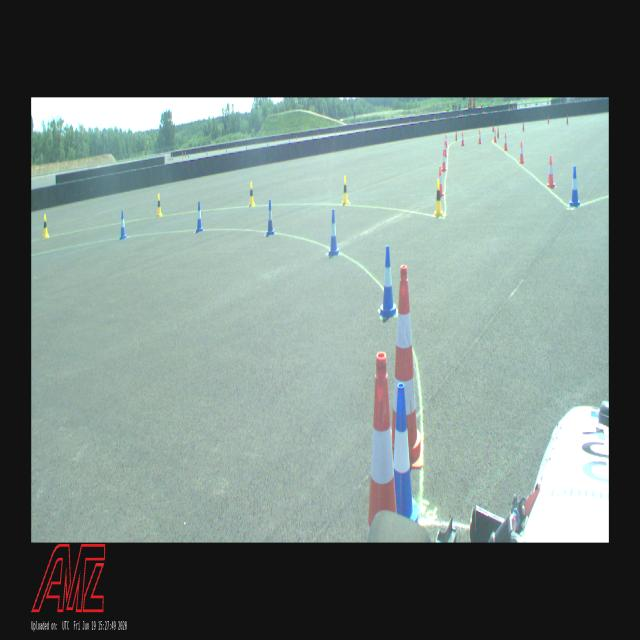blue_cone: (394, 382, 419, 521), (378, 245, 398, 317), (328, 210, 340, 256), (570, 166, 580, 205), (266, 200, 276, 236), (119, 211, 127, 239), (196, 200, 203, 232)
large_orange_cone: (392, 266, 424, 468), (368, 352, 396, 534)
orange_cone: (546, 155, 556, 189), (439, 167, 444, 197), (518, 140, 524, 163), (442, 150, 448, 170), (503, 133, 508, 151), (493, 128, 497, 142), (461, 132, 465, 146), (478, 130, 482, 144), (444, 140, 447, 156), (446, 134, 448, 146)
unknown_cone: (497, 126, 499, 138), (455, 130, 457, 141), (522, 121, 524, 131), (566, 114, 568, 124), (547, 115, 549, 123)
yellow_cone: (434, 180, 444, 216), (41, 214, 50, 238), (248, 181, 256, 206), (342, 176, 349, 204), (156, 194, 162, 216)
